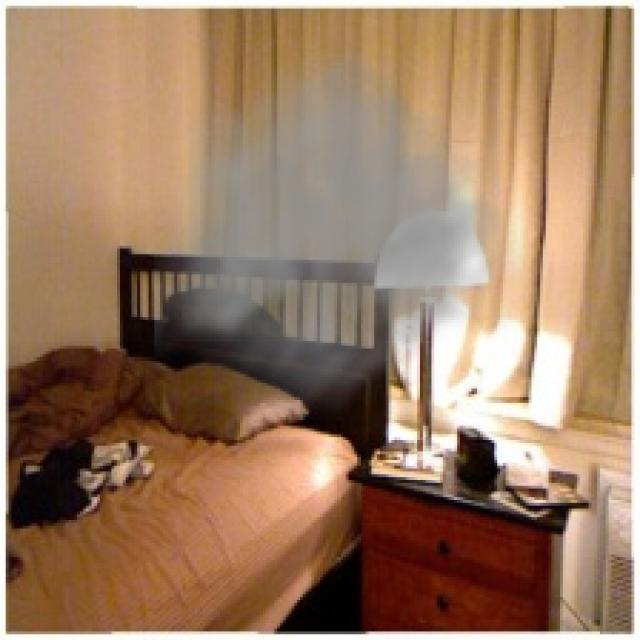smoke: (154, 34, 549, 429)
